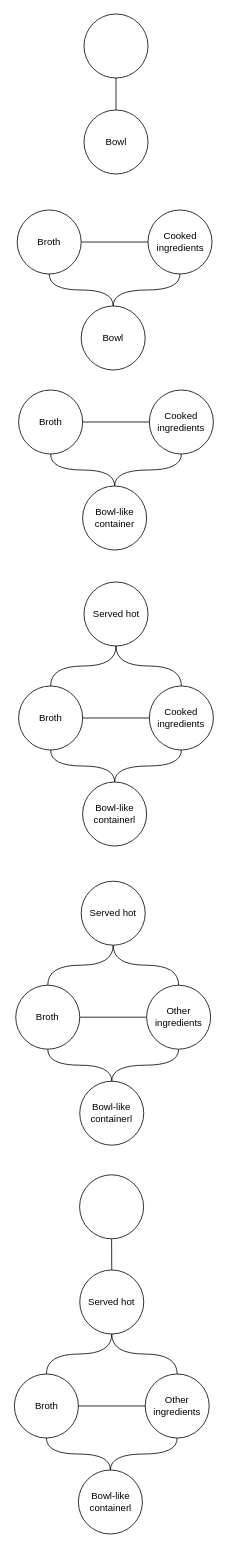
Image size: 227x1548. Some labels were removed from this diagram. The centre of each missing label's shape, as x and y in pixels:
"Eaten with a spoon" belongs at pixel 111 1206.
"Ingredients" belongs at pixel 115 45.
